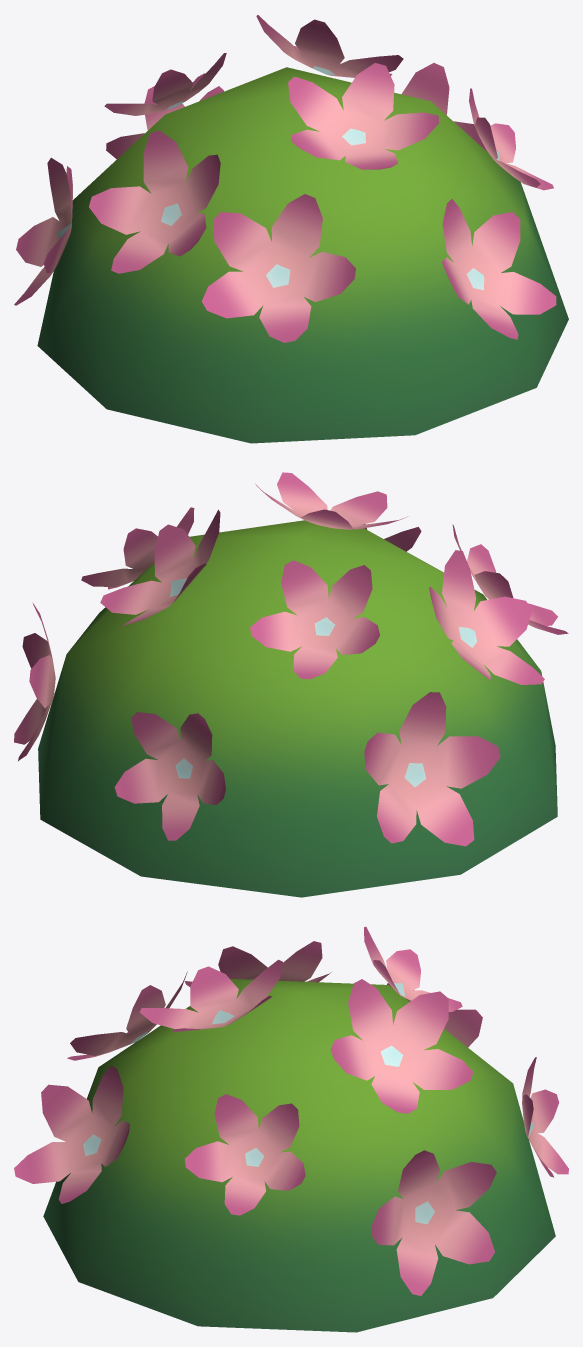
File: Flower_Decoration_05.fbx
3 renders of one model, top to bottom at view 1: azimuth 30°, elevation 25°; view 2: azimuth 150°, elevation 25°; view 3: azimuth 270°, elevation 25°, orthographic. The views are drawn at different scales.
Parts seen in each view (by area): view 1: Flower.019; view 2: Flower.019; view 3: Flower.019.
Part boxes in pixels (bbox=[...]): Flower.019: bbox=[14, 15, 568, 443]; Flower.019: bbox=[14, 472, 568, 897]; Flower.019: bbox=[14, 926, 568, 1332].
Size of the model in its own units: 200 by 115 by 216.
